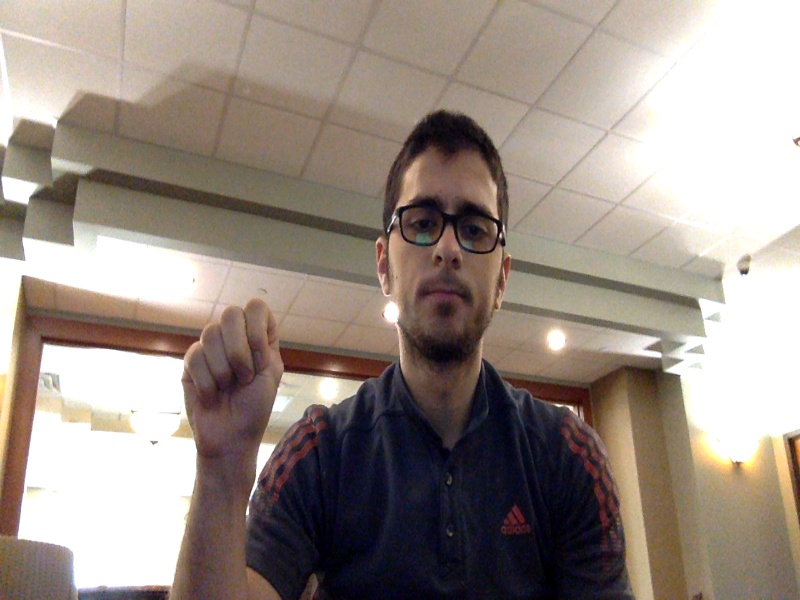0-hand: (182, 299, 285, 452)
